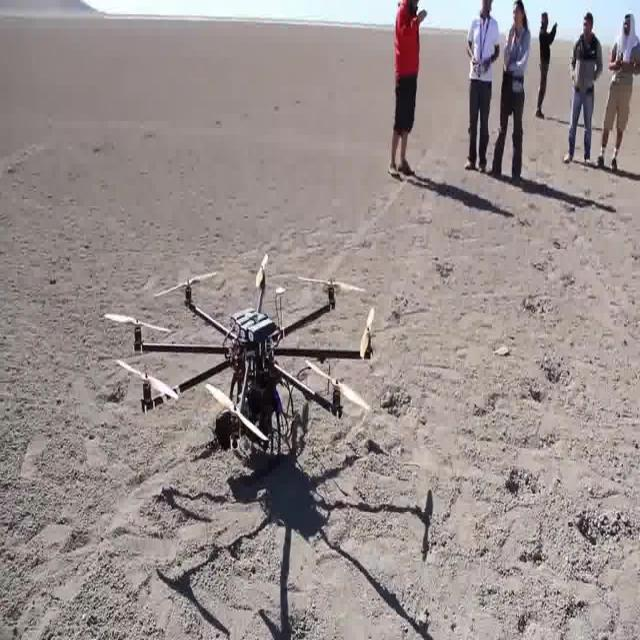drone: (103, 253, 396, 489)
